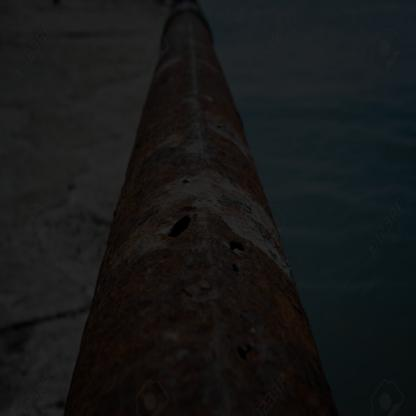burst: (159, 197, 253, 276)
